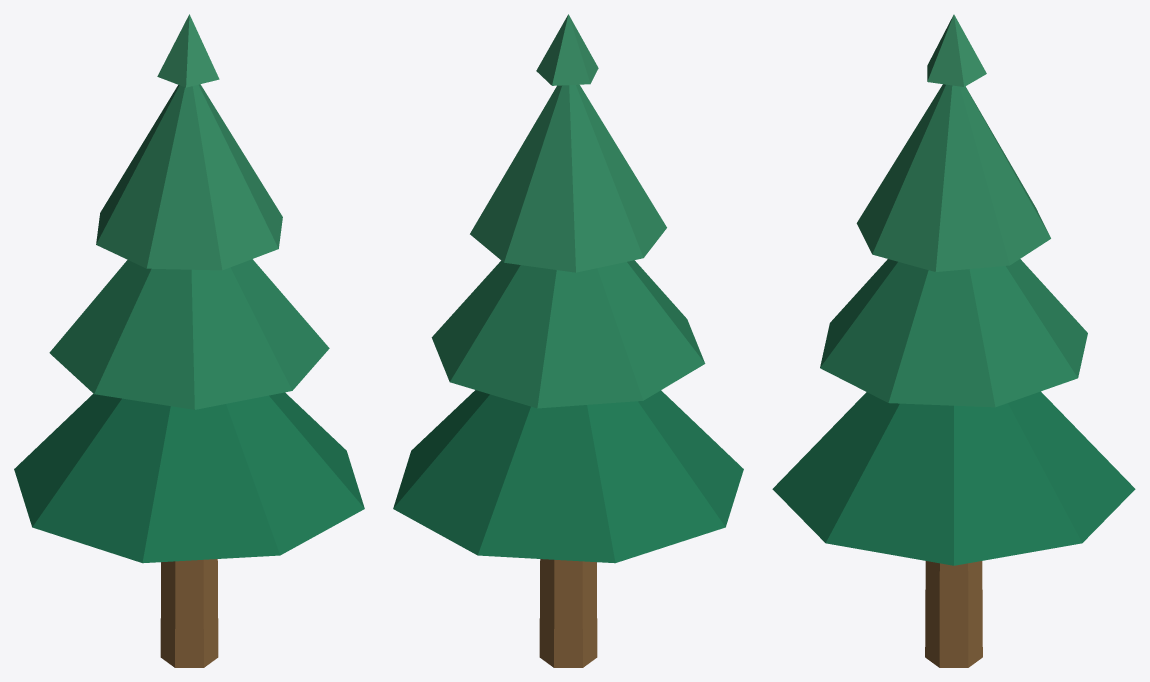
The model's file is tree_conifer.glb.
The picture shows the model from 3 angles, left to right: view 1: azimuth 30°, elevation 25°; view 2: azimuth 150°, elevation 25°; view 3: azimuth 270°, elevation 25°; orthographic projection.
Parts seen in each view (by area): view 1: ConiferTier_0, ConiferTier_1, ConiferTier_2, ConiferTrunk, ConiferTip; view 2: ConiferTier_0, ConiferTier_1, ConiferTier_2, ConiferTrunk, ConiferTip; view 3: ConiferTier_0, ConiferTier_1, ConiferTier_2, ConiferTrunk, ConiferTip.
Boxes of the visible parts, x1=… form: ConiferTier_0: x1=14, y1=392, x2=364, y2=563; ConiferTier_1: x1=49, y1=259, x2=329, y2=409; ConiferTier_2: x1=96, y1=84, x2=282, y2=270; ConiferTrunk: x1=160, y1=559, x2=218, y2=667; ConiferTip: x1=157, y1=14, x2=219, y2=87; ConiferTier_0: x1=393, y1=390, x2=743, y2=563; ConiferTier_1: x1=431, y1=260, x2=705, y2=408; ConiferTier_2: x1=470, y1=84, x2=666, y2=272; ConiferTrunk: x1=539, y1=559, x2=597, y2=667; ConiferTip: x1=536, y1=14, x2=598, y2=85; ConiferTier_0: x1=772, y1=391, x2=1135, y2=565; ConiferTier_1: x1=820, y1=259, x2=1087, y2=407; ConiferTier_2: x1=856, y1=84, x2=1050, y2=271; ConiferTrunk: x1=925, y1=561, x2=982, y2=667; ConiferTip: x1=927, y1=14, x2=986, y2=86.
Size of the model in its own units: 0.44 by 0.86 by 0.44.
